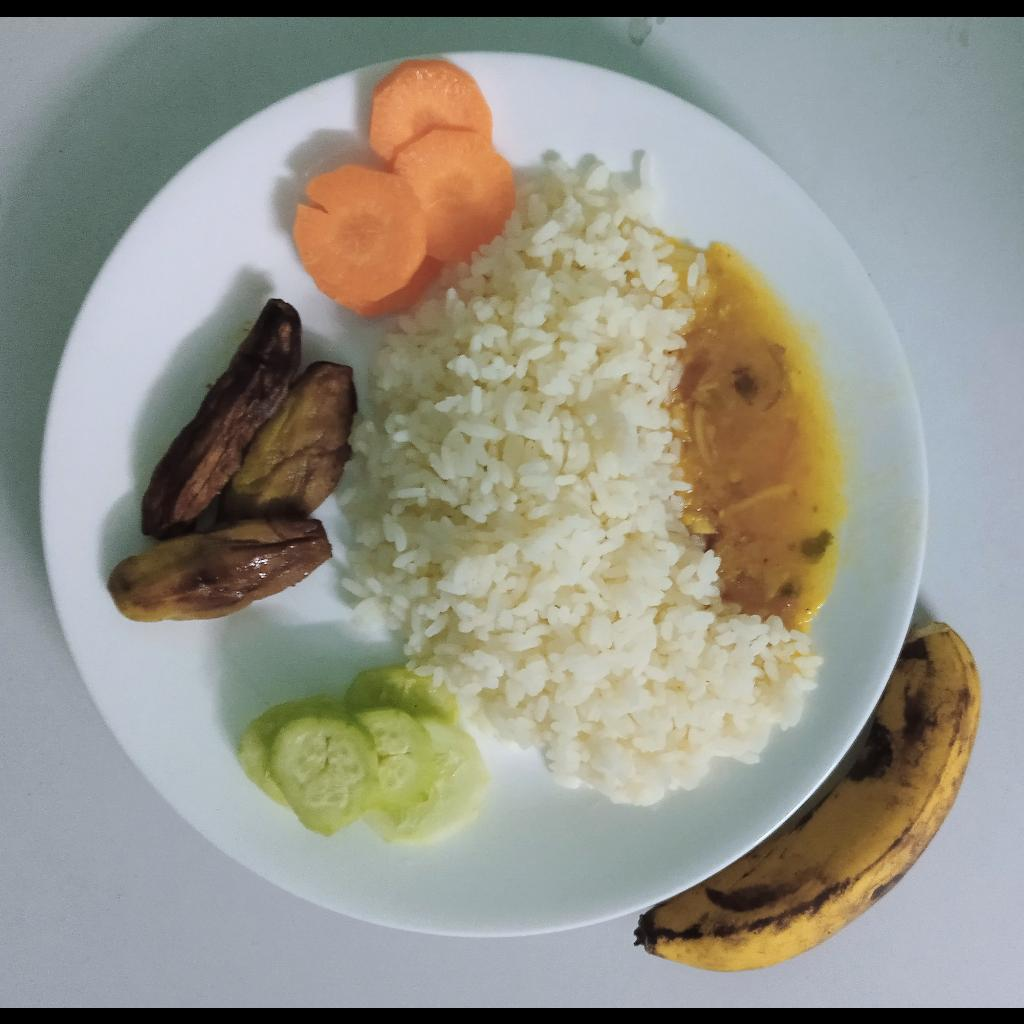banana: (638, 617, 982, 971)
carrot: (294, 58, 513, 315)
cucumber: (239, 664, 493, 845)
daal: (674, 241, 842, 630)
potol: (107, 300, 357, 620)
rice: (345, 148, 811, 803)
